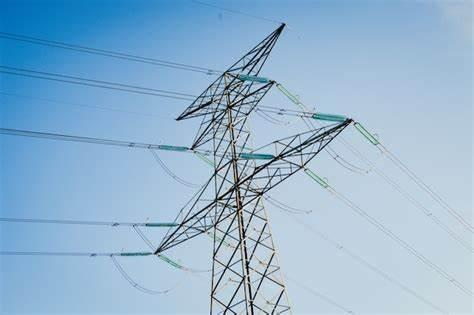power_tower: (139, 17, 355, 315)
